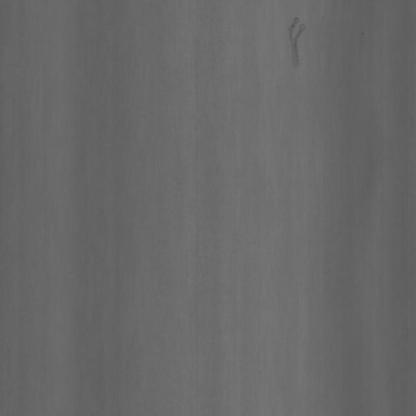water_spot: (278, 12, 309, 70)
